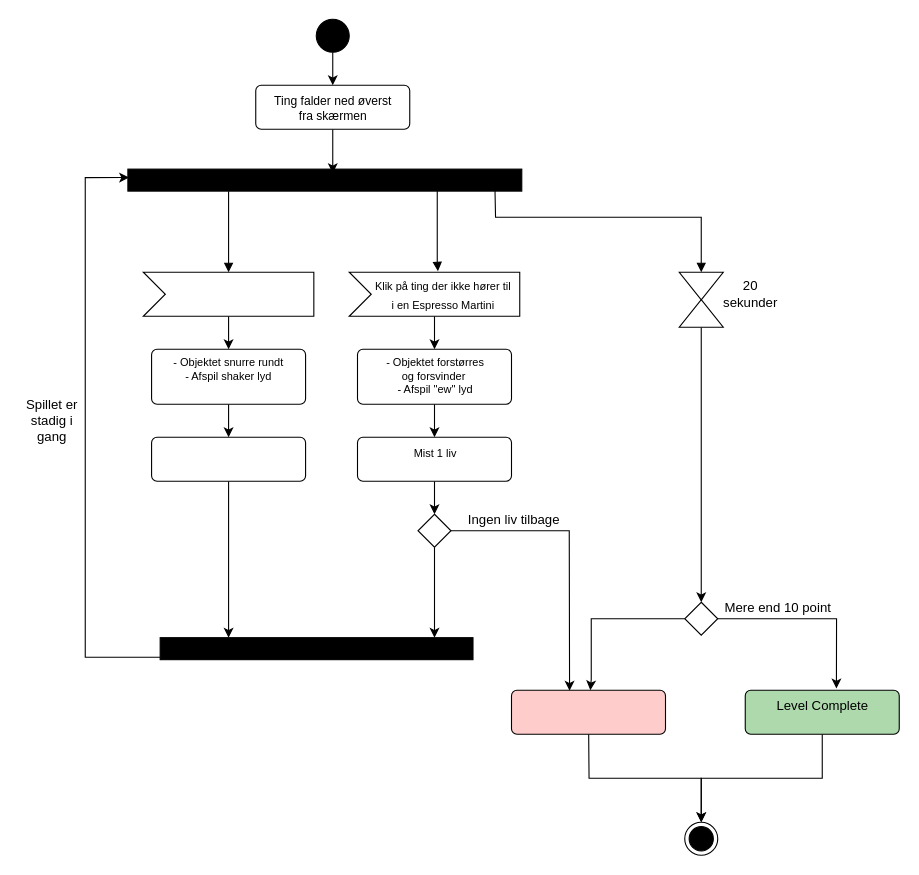
The diagram is 919 pixels wide and 875 high, and some of its shapes have lost their labels. The centre of each missing label's shape, as x and y in pixels:
"Game Over" goes at (x=588, y=711).
"Klik på ingredienser til Espresso Martini" goes at (x=228, y=293).
"Modtag 1 point" goes at (x=228, y=458).
